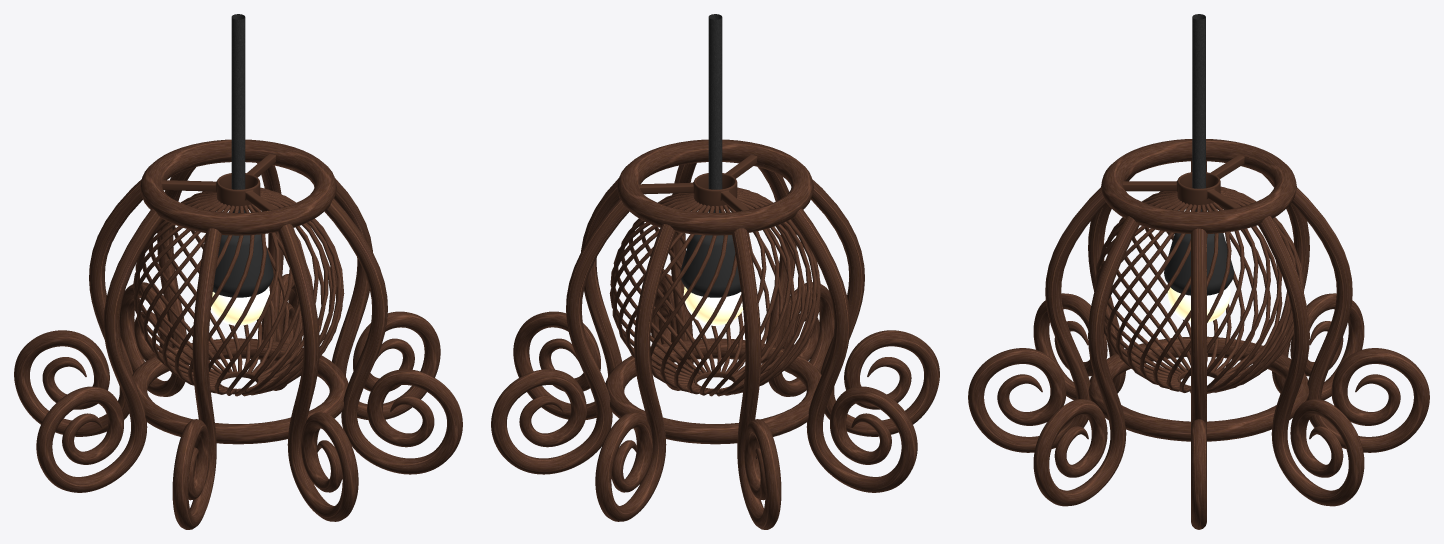
Rendered from chocalate_color_lantern.glb.
The picture shows the model from 3 angles, left to right: view 1: azimuth 30°, elevation 25°; view 2: azimuth 150°, elevation 25°; view 3: azimuth 270°, elevation 25°; orthographic projection.
Parts seen in each view (by area): view 1: NurbsPath.001_8, Sphere.001_12, BezierCircle.001_1, BezierCircle.002_2, NurbsPath.002_9, Circle.035_5, Circle.036_6, Sphere.007_14; view 2: NurbsPath.001_8, Sphere.001_12, BezierCircle.001_1, BezierCircle.002_2, NurbsPath.002_9, Circle.035_5, Circle.036_6, Sphere.007_14; view 3: NurbsPath.001_8, Sphere.001_12, BezierCircle.001_1, BezierCircle.002_2, NurbsPath.002_9, Circle.036_6, Circle.035_5, Sphere.007_14.
Part boxes in pixels (x1,y1,x2,y2): NurbsPath.001_8: (14, 163, 462, 529); Sphere.001_12: (132, 187, 344, 396); BezierCircle.001_1: (140, 139, 336, 235); BezierCircle.002_2: (132, 338, 348, 444); NurbsPath.002_9: (231, 14, 245, 212); Circle.035_5: (213, 234, 273, 297); Circle.036_6: (161, 154, 276, 211); Sphere.007_14: (211, 286, 269, 325); NurbsPath.001_8: (491, 163, 939, 529); Sphere.001_12: (609, 187, 821, 396); BezierCircle.001_1: (617, 139, 813, 235); BezierCircle.002_2: (605, 338, 821, 444); NurbsPath.002_9: (708, 14, 722, 212); Circle.035_5: (680, 234, 740, 297); Circle.036_6: (638, 154, 757, 211); Sphere.007_14: (683, 286, 742, 325); NurbsPath.001_8: (968, 161, 1429, 529); Sphere.001_12: (1093, 186, 1304, 393); BezierCircle.001_1: (1101, 139, 1296, 233); BezierCircle.002_2: (1088, 336, 1309, 441); NurbsPath.002_9: (1192, 14, 1205, 211); Circle.036_6: (1122, 155, 1244, 209); Circle.035_5: (1164, 233, 1233, 295); Sphere.007_14: (1167, 285, 1230, 322).
Size of the model in its own units: 3.71 by 3.86 by 3.71.
3 materials, 2 textured.
